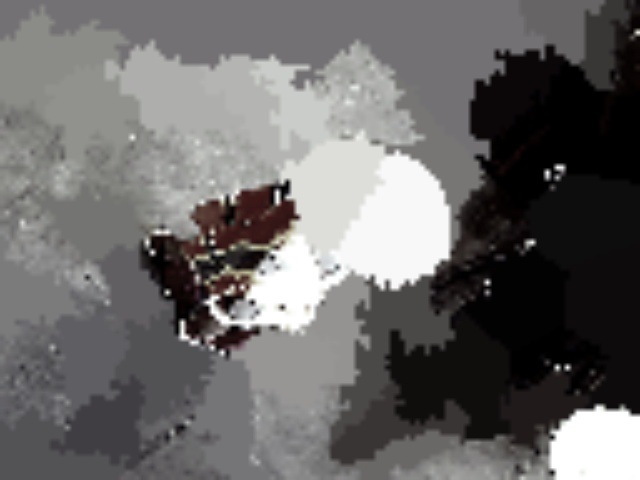eight: (327, 129, 392, 182)
